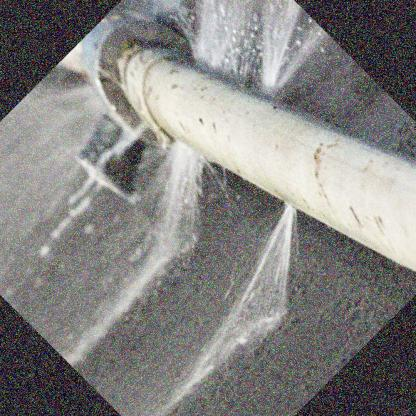burst: (186, 56, 296, 107), (161, 129, 222, 177), (257, 166, 300, 221)
